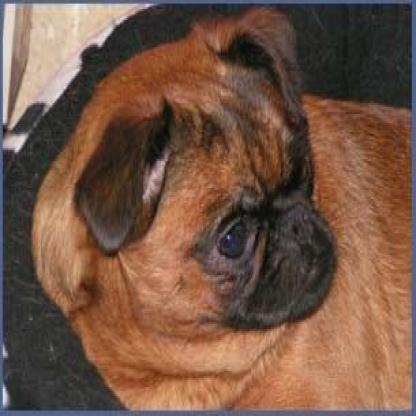Brabancon_griffon: (29, 7, 413, 411)
